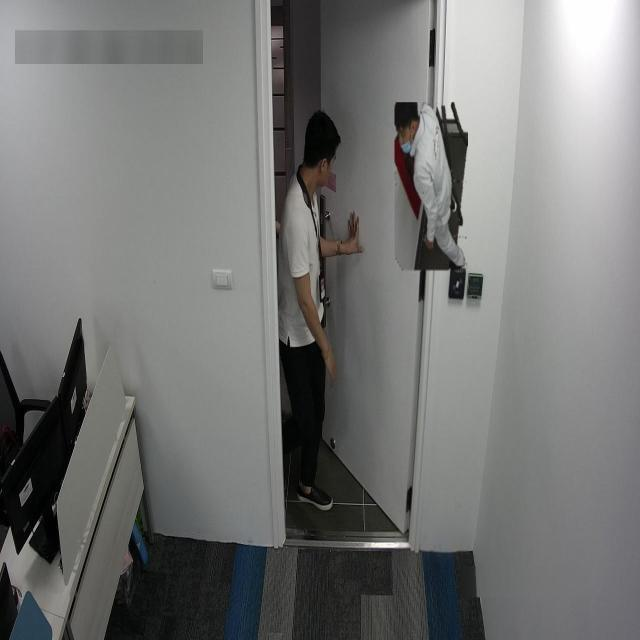hairnet: (396, 106, 414, 158)
